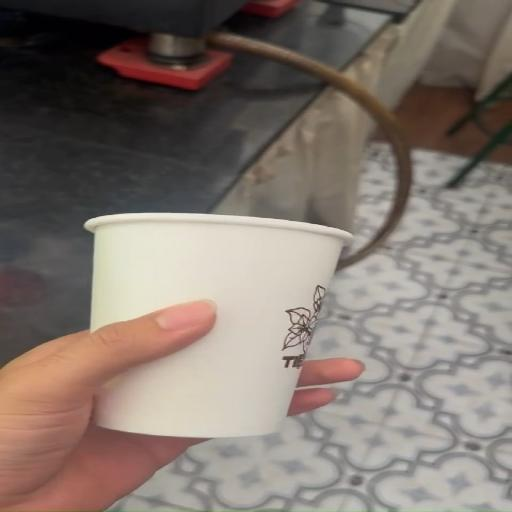Ly_giay: (85, 213, 351, 437)
